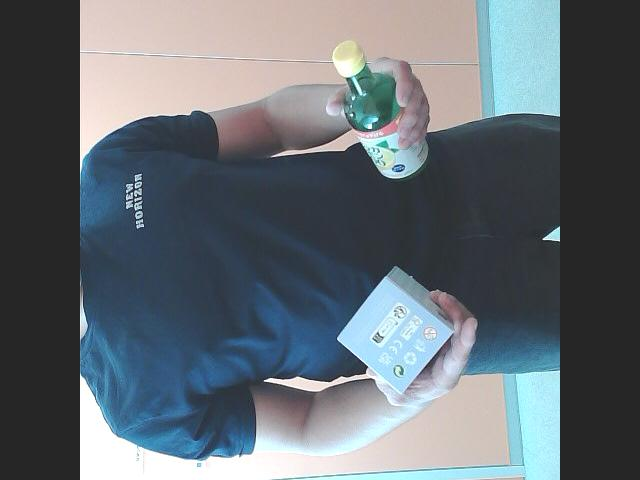Blind_box: (330, 266, 456, 388)
Lemon_sapporo: (331, 34, 434, 180)
